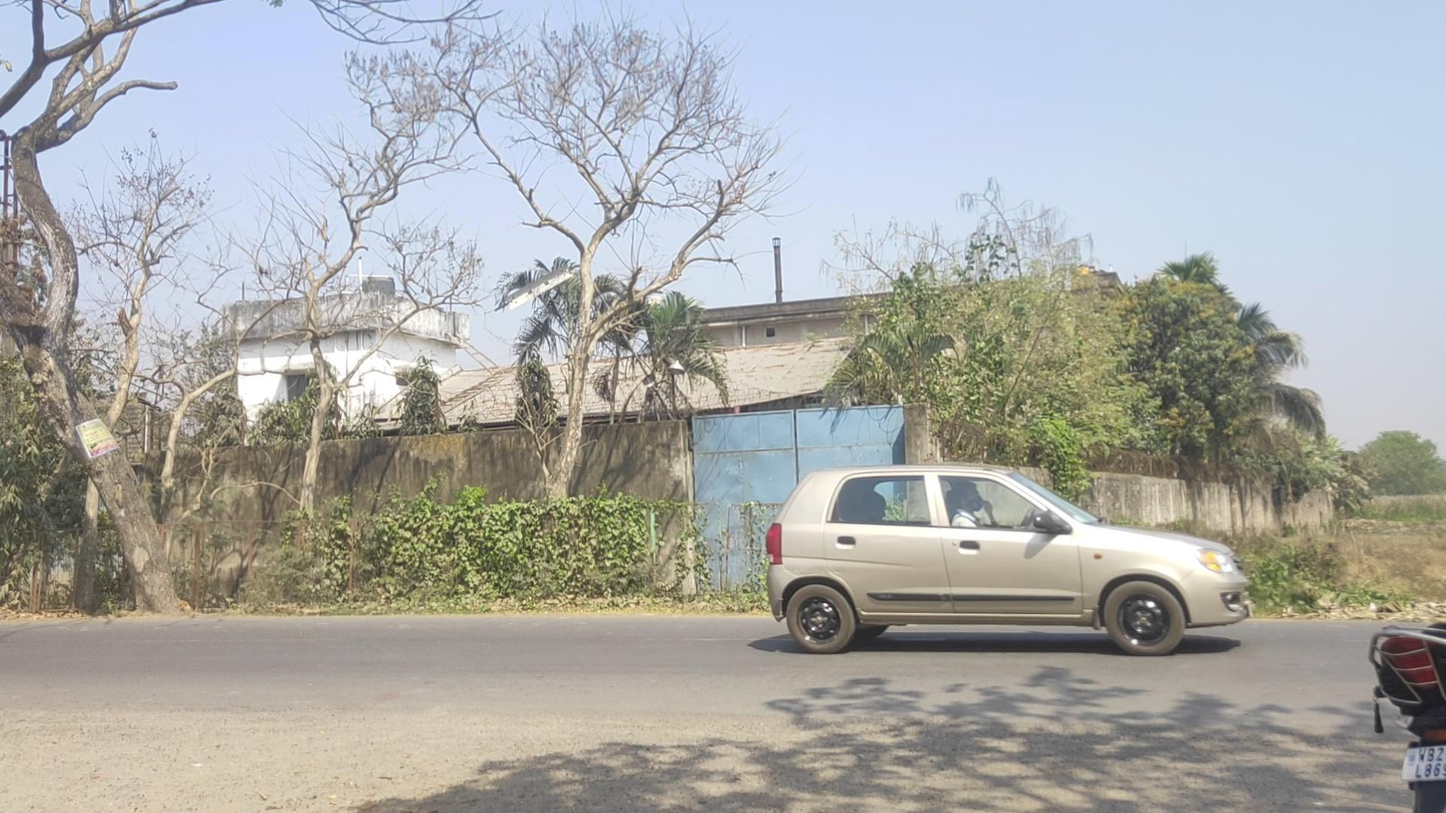car: (766, 464, 1253, 656)
